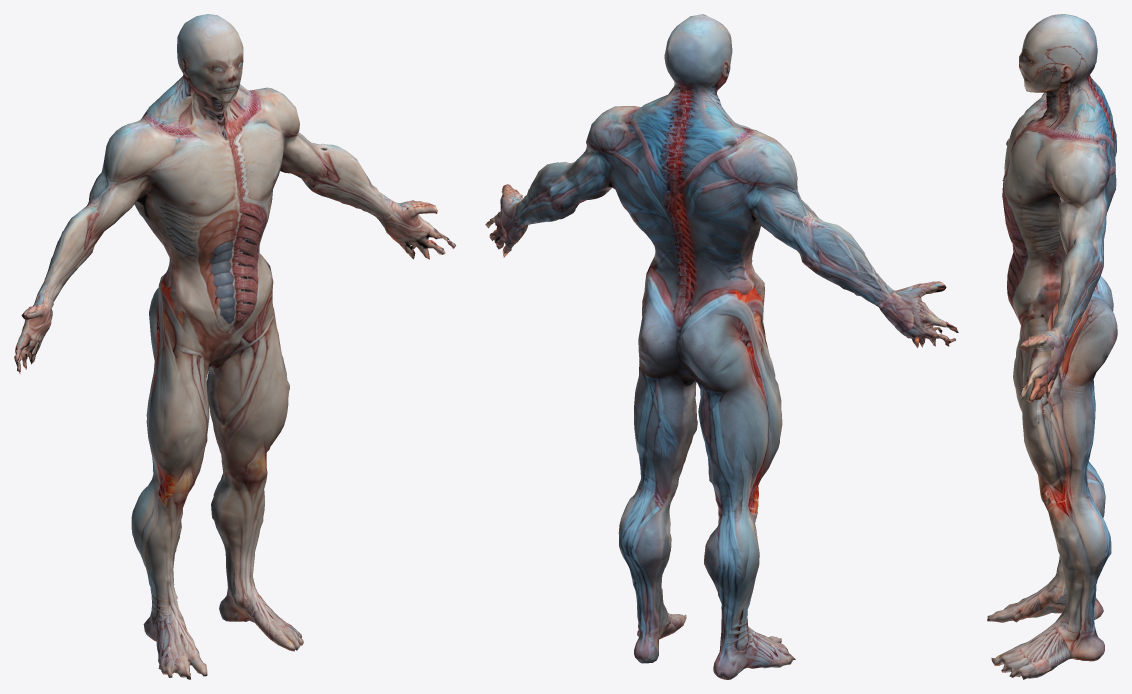
The model's file is organmanusia.glb.
3 views of the same model, side by side, from view 1: azimuth 30°, elevation 25°; view 2: azimuth 150°, elevation 25°; view 3: azimuth 270°, elevation 25° (orthographic). The views are drawn at different scales.
Bounding box in the file's own units: 0.902 × 1.2 × 0.2249.
1 material, 1 textured.
